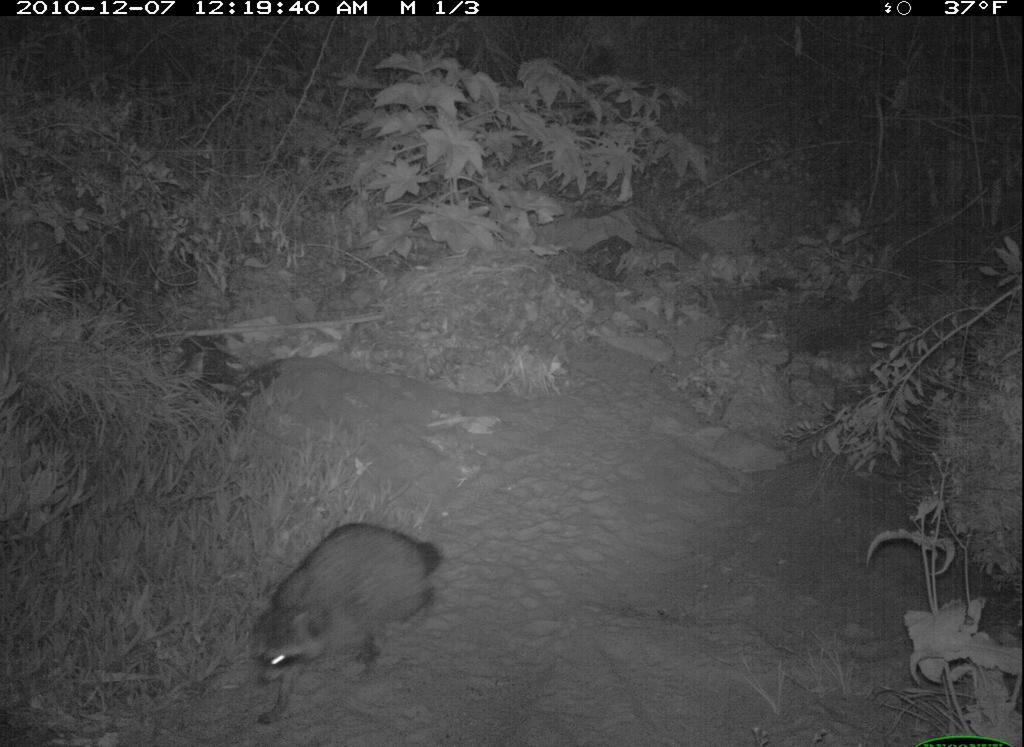raccoon: (251, 516, 465, 719)
